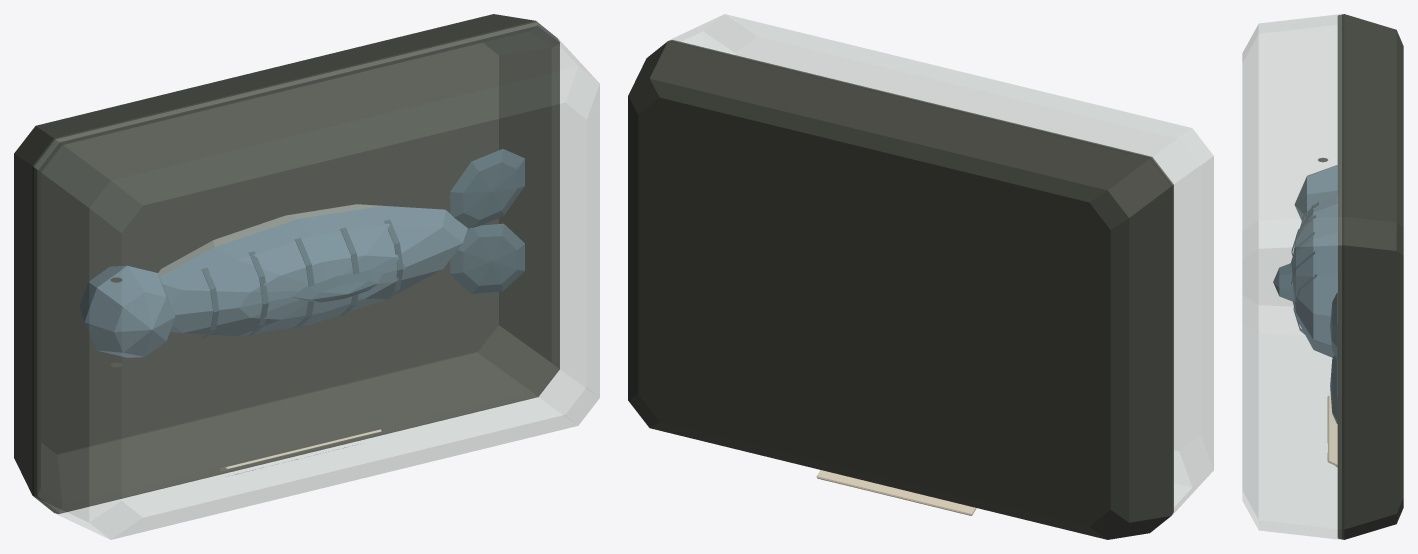
File: mackerel.glb
The picture shows the model from 3 angles, left to right: view 1: azimuth 30°, elevation 25°; view 2: azimuth 150°, elevation 25°; view 3: azimuth 270°, elevation 25°; orthographic projection. The views are drawn at different scales.
Parts seen in each view (by area): view 1: mackerel; view 2: mackerel; view 3: mackerel.
Part boxes in pixels (x1,y1,x2,y2): mackerel: (14, 14, 599, 539); mackerel: (628, 14, 1213, 539); mackerel: (1242, 14, 1403, 539).
Bounding box in the file's own units: 0.22 × 0.1549 × 0.068.
